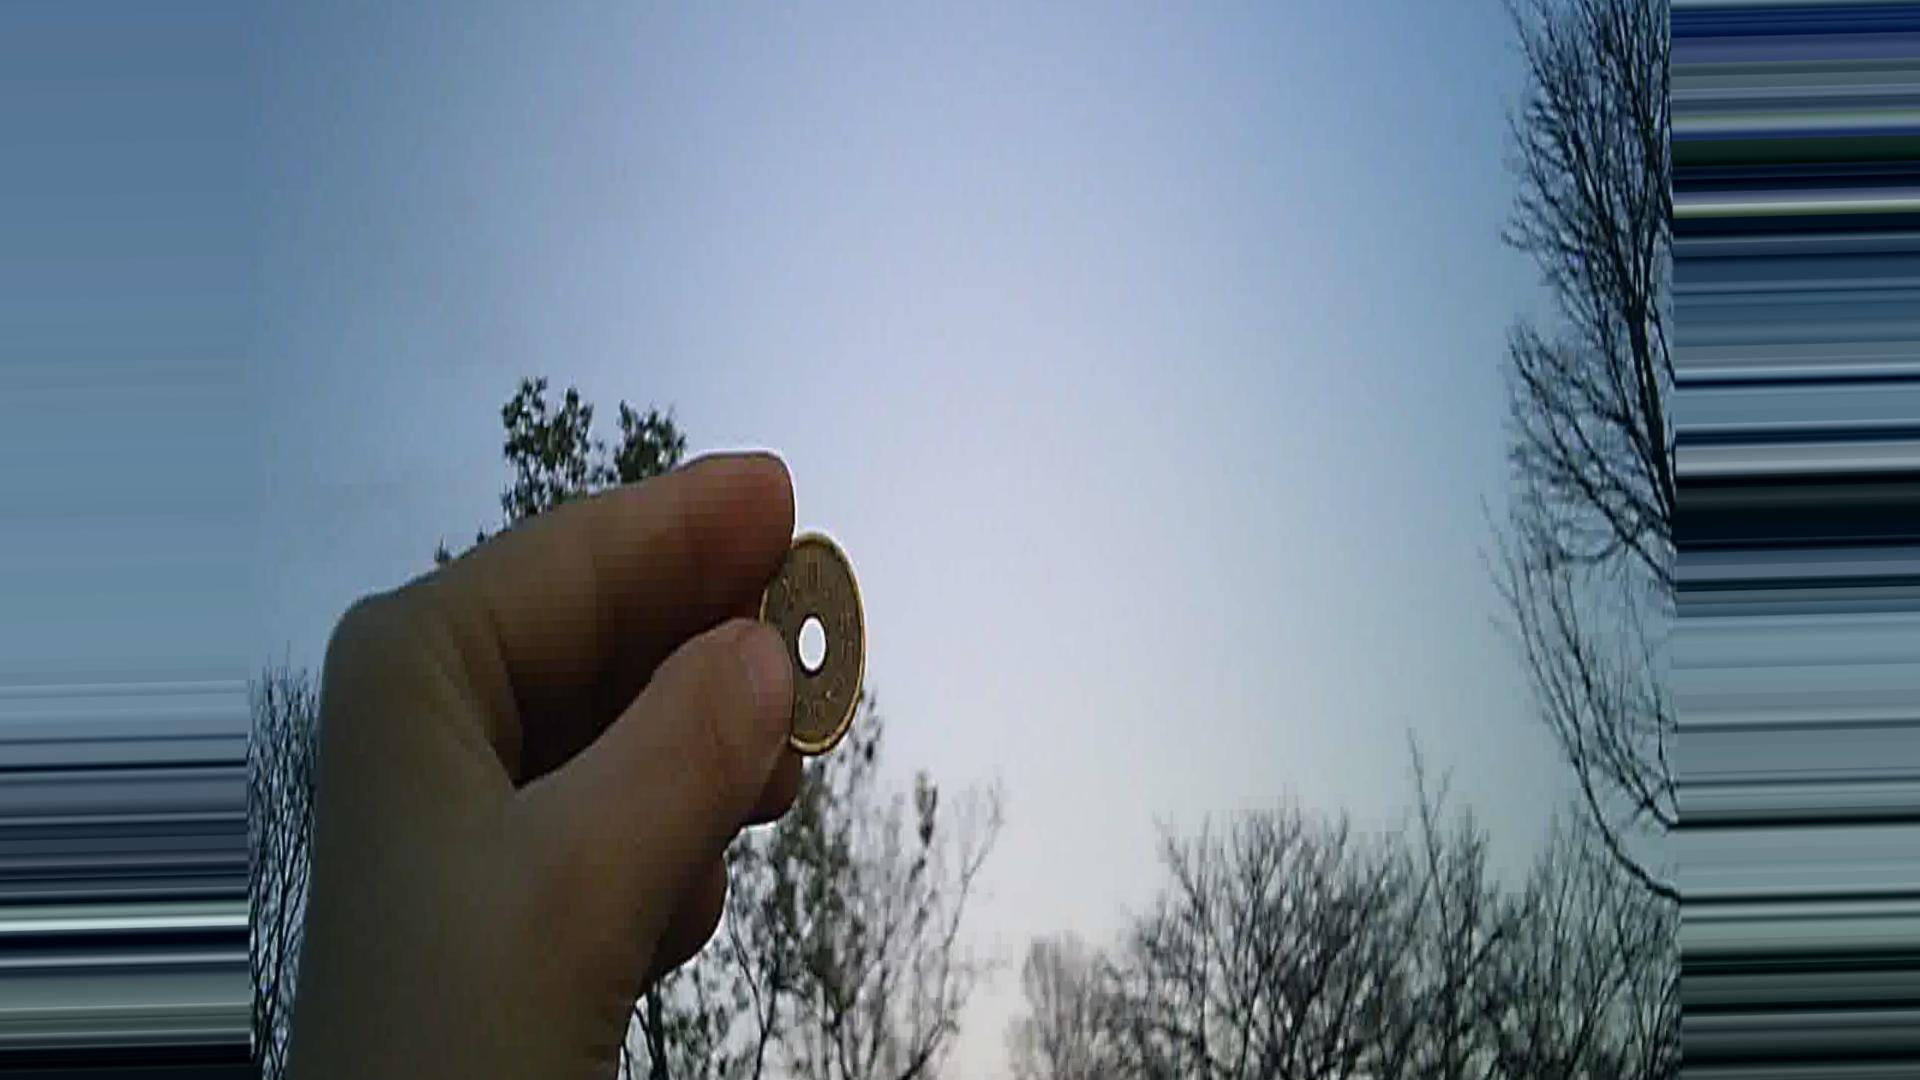5 Yen: (756, 529, 882, 765)
